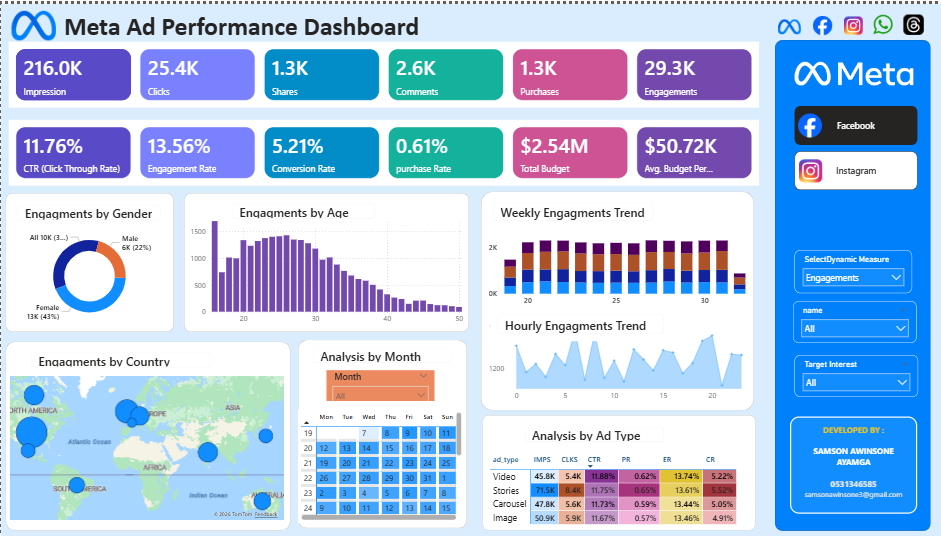

The dashboard page shown, as its layout file describes it:
{"tool":"powerbi","page":{"name":"Facebook","canvas":[1570,900],"ordinal":0},"visuals":[{"type":"textbox","box":[99.7,4.6,639.7,71.9],"z":0},{"type":"image","box":[18.5,0,74.2,71.9],"z":1000},{"type":"shape","box":[1288.8,60.3,259.6,818.2],"z":2000},{"type":"cardVisual","fields":{"Data":["ad_events.Impression","ad_events.Clicks","ad_events.Shares","ad_events.Comments","ad_events.Purchases","ad_events.Engagements"]},"box":[7,57.9,1265.6,120.5],"z":3000},{"type":"cardVisual","fields":{"Data":["ad_events.CTR (Click Through Rate)","ad_events.Engagement Rate","ad_events.Conversion Rate","ad_events.purchase Rate","ad_events.Total Budget","ad_events.Avg. Budget Per Campaign"]},"box":[7,187.8,1265.6,120.5],"z":4000},{"type":"slicer","fields":{"Values":["SelectDynamic Measure.SelectDynamic Measure"]},"box":[1322,410,196,72],"z":5000},{"type":"shape","box":[7,315.2,280.5,231.8],"z":6000},{"type":"donutChart","fields":{"Y":["ad_events.Engagements"],"Category":["ads.target_gender"]},"box":[16.2,368.6,264.2,171.5],"z":7000},{"type":"cardVisual","fields":{"Data":["SelectDynamic Measure.Gender Title"]},"box":[10,317.3,273.6,60.9],"z":8000},{"type":"shape","box":[306,315.2,475,231.8],"z":9000},{"type":"columnChart","fields":{"Y":["ad_events.Engagements"],"Category":["users.user_age"]},"box":[310.8,346.7,465.8,195],"z":10000},{"type":"cardVisual","fields":{"Data":["ad_events.Age Title"]},"box":[366.7,315,273.3,60],"z":11000},{"type":"shape","box":[7,563.3,475.2,315.2],"z":12000},{"type":"azureMap","fields":{"Size":["ad_events.Engagements"],"Category":["users.country"]},"box":[10,615.8,465.8,250],"z":13000},{"type":"cardVisual","fields":{"Data":["ad_events.Map Title"]},"box":[31.7,563.3,335,60],"z":14000},{"type":"shape","box":[494,560,282,314],"z":15000},{"type":"pivotTable","fields":{"Rows":["Calender Table.Week Number"],"Columns":["Calender Table.Day Name"],"Values":["Min(Calender Table.Day number)"]},"box":[495.8,675.8,277.5,190],"z":16000},{"type":"slicer","fields":{"Values":["Calender Table.Month"]},"box":[541.7,605,180,56.7],"z":17000},{"type":"cardVisual","fields":{"Data":["ad_events.Calender Title"]},"box":[502.5,555,265.8,60],"z":18000},{"type":"shape","box":[800,312.5,455,365],"z":19000},{"type":"columnChart","fields":{"Y":["ad_events.Engagements"],"Category":["Calender Table.Week Number"],"Series":["ads.ad_type"]},"box":[807.5,352.5,440,160],"z":20000},{"type":"cardVisual","fields":{"Data":["ad_events.Weekly Title"]},"box":[801.7,311.7,301.7,66.7],"z":21000},{"type":"areaChart","fields":{"Y":["ad_events.Engagements"],"Category":["ad_events.Event Hour"]},"box":[806.2,525,441.2,145],"z":22000},{"type":"cardVisual","fields":{"Data":["ad_events.Hourly Title"]},"box":[810,498.8,312.5,67.5],"z":23000},{"type":"shape","box":[802.5,685,455,192.5],"z":24000},{"type":"pivotTable","fields":{"Values":["ad_events.Impression","ad_events.Clicks","ad_events.CTR (Click Through Rate)","ad_events.purchase Rate","ad_events.Engagement Rate","ad_events.Conversion Rate"],"Rows":["ads.ad_type"]},"box":[810,744,440,130],"z":25000},{"type":"cardVisual","fields":{"Data":["ad_events.Matrix Title"]},"box":[855.5,687.3,267.3,60],"z":26000},{"type":"image","box":[1322,86,198,62],"z":27000},{"type":"slicer","fields":{"Values":["campaigns.name"]},"box":[1320,494,206,70],"z":28000},{"type":"slicer","fields":{"Values":["campaigns.name"]},"box":[1322,586,206,70],"z":29000},{"type":"pageNavigator","box":[1322.5,170,205,140],"z":30000},{"type":"image","box":[1329.2,257.7,38.5,41.5],"z":31000},{"type":"image","box":[1325.4,183.1,46.2,40],"z":32000},{"type":"image","box":[1450,18,40,33],"z":33000},{"type":"image","box":[1499,17,42,34],"z":34000},{"type":"image","box":[1296,15,38,46],"z":35000},{"type":"image","box":[1349,20,38,32],"z":36000},{"type":"image","box":[1406,20,31,32],"z":37000},{"type":"textbox","box":[1316,688,212,162],"z":38000}]}

Visuals, with their boxes in screenshot pixels (x1, y1, x2, y2), scaled from the page's 1570x900 canvas onto the 941x536 screenshot:
textbox: box(60, 3, 443, 46)
image: box(11, 0, 56, 43)
shape: box(772, 36, 928, 523)
cardVisual - ad_events.Impression x ad_events.Clicks: box(4, 34, 763, 106)
cardVisual - ad_events.CTR (Click Through Rate) x ad_events.Engagement Rate: box(4, 112, 763, 184)
slicer - SelectDynamic Measure.SelectDynamic Measure: box(792, 244, 910, 287)
shape: box(4, 188, 172, 326)
donutChart - ad_events.Engagements x ads.target_gender: box(10, 220, 168, 322)
cardVisual - SelectDynamic Measure.Gender Title: box(6, 189, 170, 225)
shape: box(183, 188, 468, 326)
columnChart - ad_events.Engagements x users.user_age: box(186, 206, 465, 323)
cardVisual - ad_events.Age Title: box(220, 188, 384, 223)
shape: box(4, 335, 289, 523)
azureMap - ad_events.Engagements x users.country: box(6, 367, 285, 516)
cardVisual - ad_events.Map Title: box(19, 335, 220, 371)
shape: box(296, 334, 465, 521)
pivotTable - Calender Table.Week Number x Calender Table.Day Name: box(297, 402, 463, 516)
slicer - Calender Table.Month: box(325, 360, 433, 394)
cardVisual - ad_events.Calender Title: box(301, 331, 460, 366)
shape: box(479, 186, 752, 403)
columnChart - ad_events.Engagements x Calender Table.Week Number: box(484, 210, 748, 305)
cardVisual - ad_events.Weekly Title: box(481, 186, 661, 225)
areaChart - ad_events.Engagements x ad_events.Event Hour: box(483, 313, 748, 399)
cardVisual - ad_events.Hourly Title: box(485, 297, 673, 337)
shape: box(481, 408, 754, 523)
pivotTable - ad_events.Impression x ad_events.Clicks: box(485, 443, 749, 521)
cardVisual - ad_events.Matrix Title: box(513, 409, 673, 445)
image: box(792, 51, 911, 88)
slicer - campaigns.name: box(791, 294, 915, 336)
slicer - campaigns.name: box(792, 349, 916, 391)
pageNavigator: box(793, 101, 916, 185)
image: box(797, 153, 820, 178)
image: box(794, 109, 822, 133)
image: box(869, 11, 893, 30)
image: box(898, 10, 924, 30)
image: box(777, 9, 800, 36)
image: box(809, 12, 831, 31)
image: box(843, 12, 861, 31)
textbox: box(789, 410, 916, 506)
